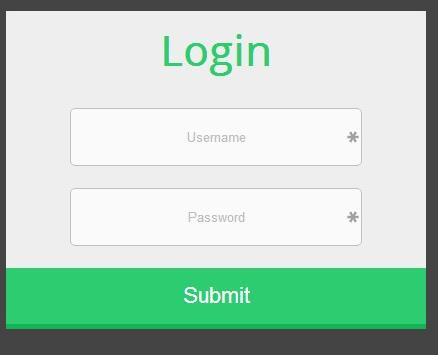button: (3, 265, 428, 327)
field: (67, 186, 363, 249), (67, 106, 365, 168)
